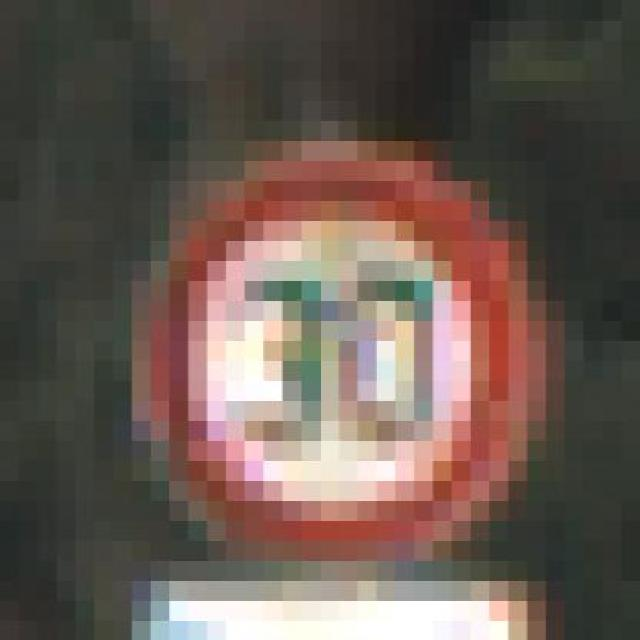Speed Limit 30 KMPh: (112, 120, 546, 560)
